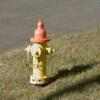Hydrant: (23, 12, 63, 86)
